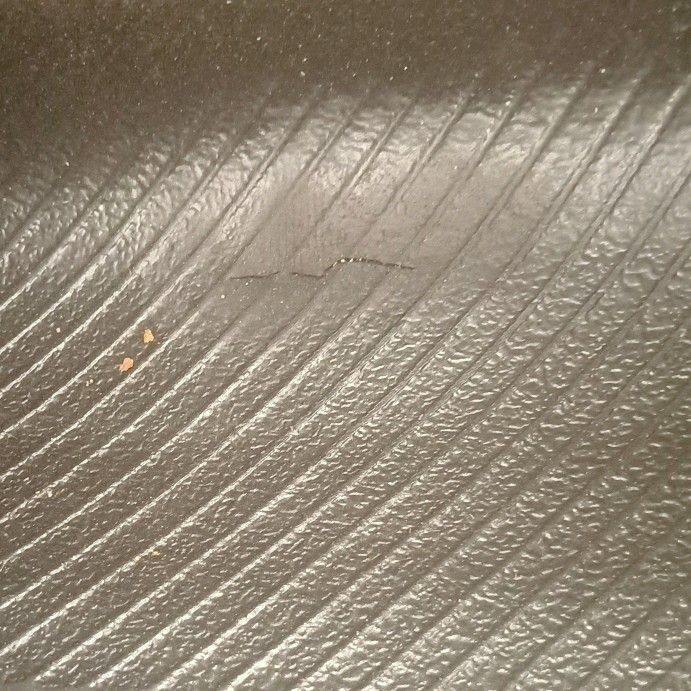CBU: (219, 241, 433, 289)
